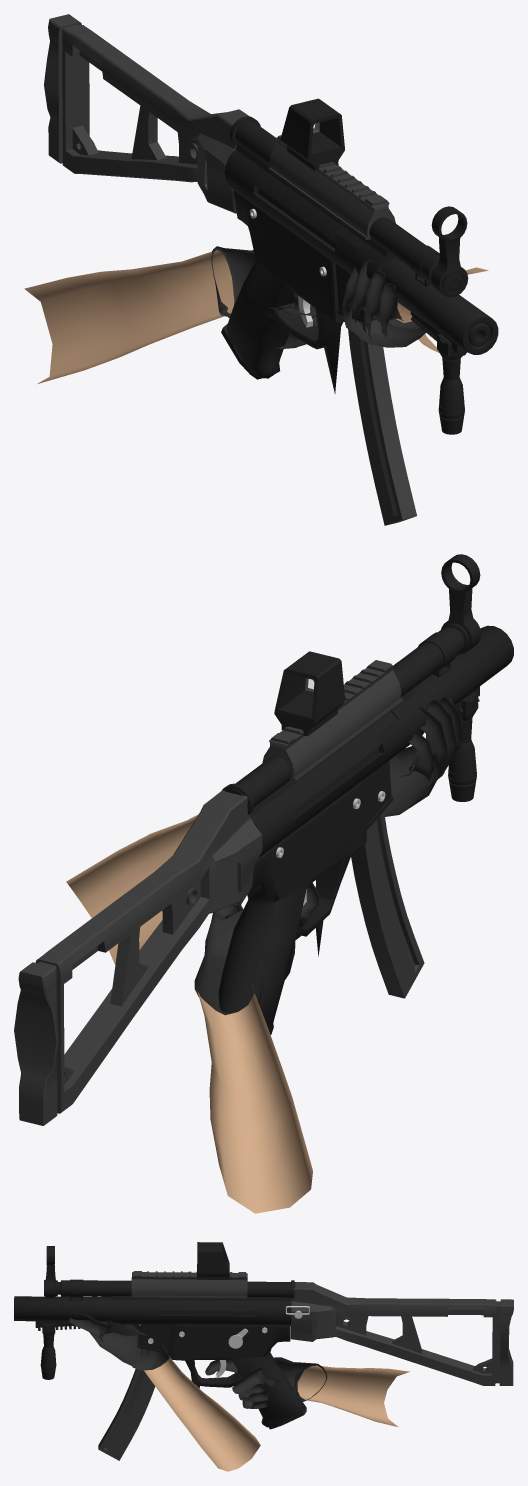
File: mp5-rig-3.glb
3 renders of one model, top to bottom at view 1: azimuth 30°, elevation 25°; view 2: azimuth 150°, elevation 25°; view 3: azimuth 270°, elevation 25°, orthographic. The views are drawn at different scales.
Visible parts, largest first — view 1: Plan012.010; view 2: Plan012.010; view 3: Plan012.010.
Part boxes in pixels (x1=…): Plan012.010: x1=24, y1=14, x2=498, y2=525; Plan012.010: x1=14, y1=554, x2=513, y2=1213; Plan012.010: x1=14, y1=1242, x2=513, y2=1471.
Size of the model in its own units: 0.0757 by 0.0725 by 0.1544.
